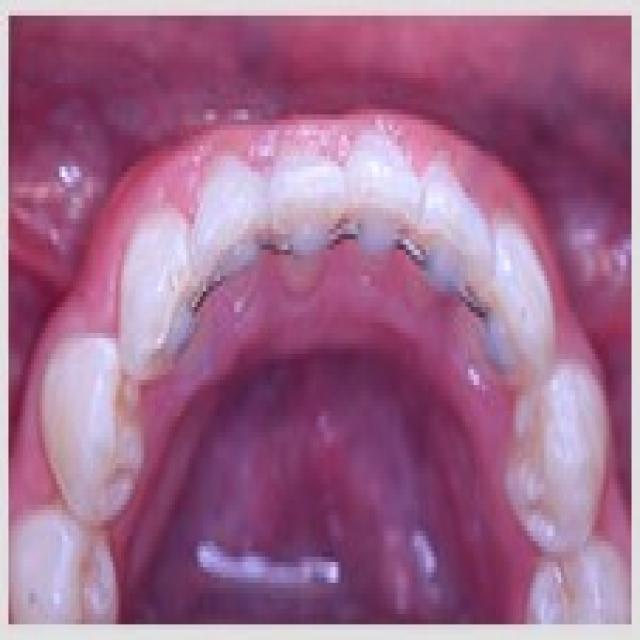tooth: (31, 328, 141, 531), (175, 156, 268, 323), (251, 130, 341, 276), (420, 156, 491, 317), (344, 115, 414, 260), (536, 380, 606, 525), (493, 208, 550, 385), (127, 224, 192, 364)
